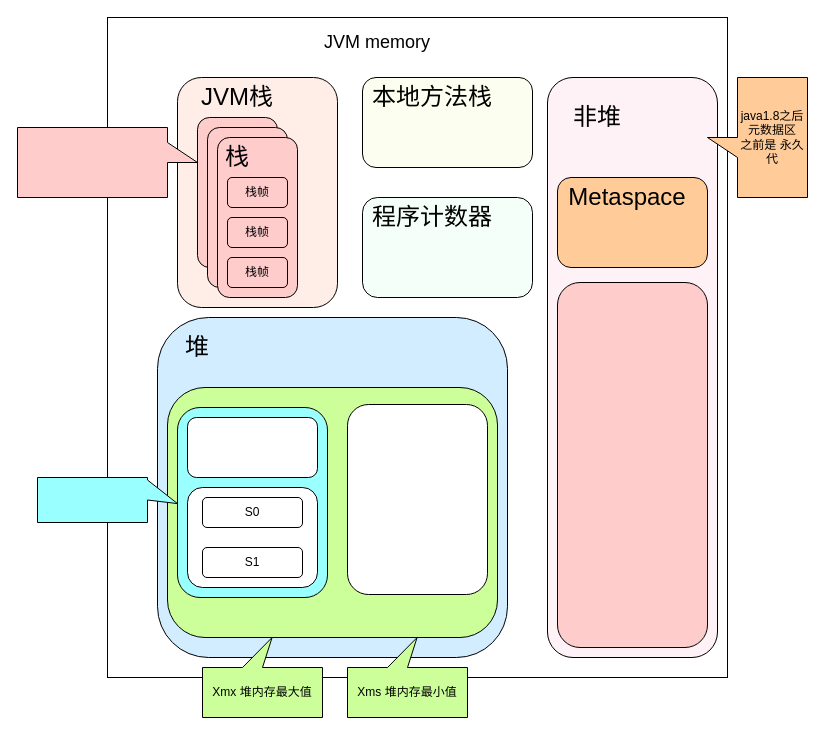
The diagram is 825 pixels wide and 735 high, and some of its shapes have lost their labels. Each missing label, with the box of its shape:
DirectMemory: (556, 282, 708, 648)
Eden: (186, 416, 318, 478)
Old: (346, 404, 488, 594)
Xmn 年轻代大小: (36, 476, 178, 522)
Xss 每个线程的栈大小: (16, 126, 198, 198)
